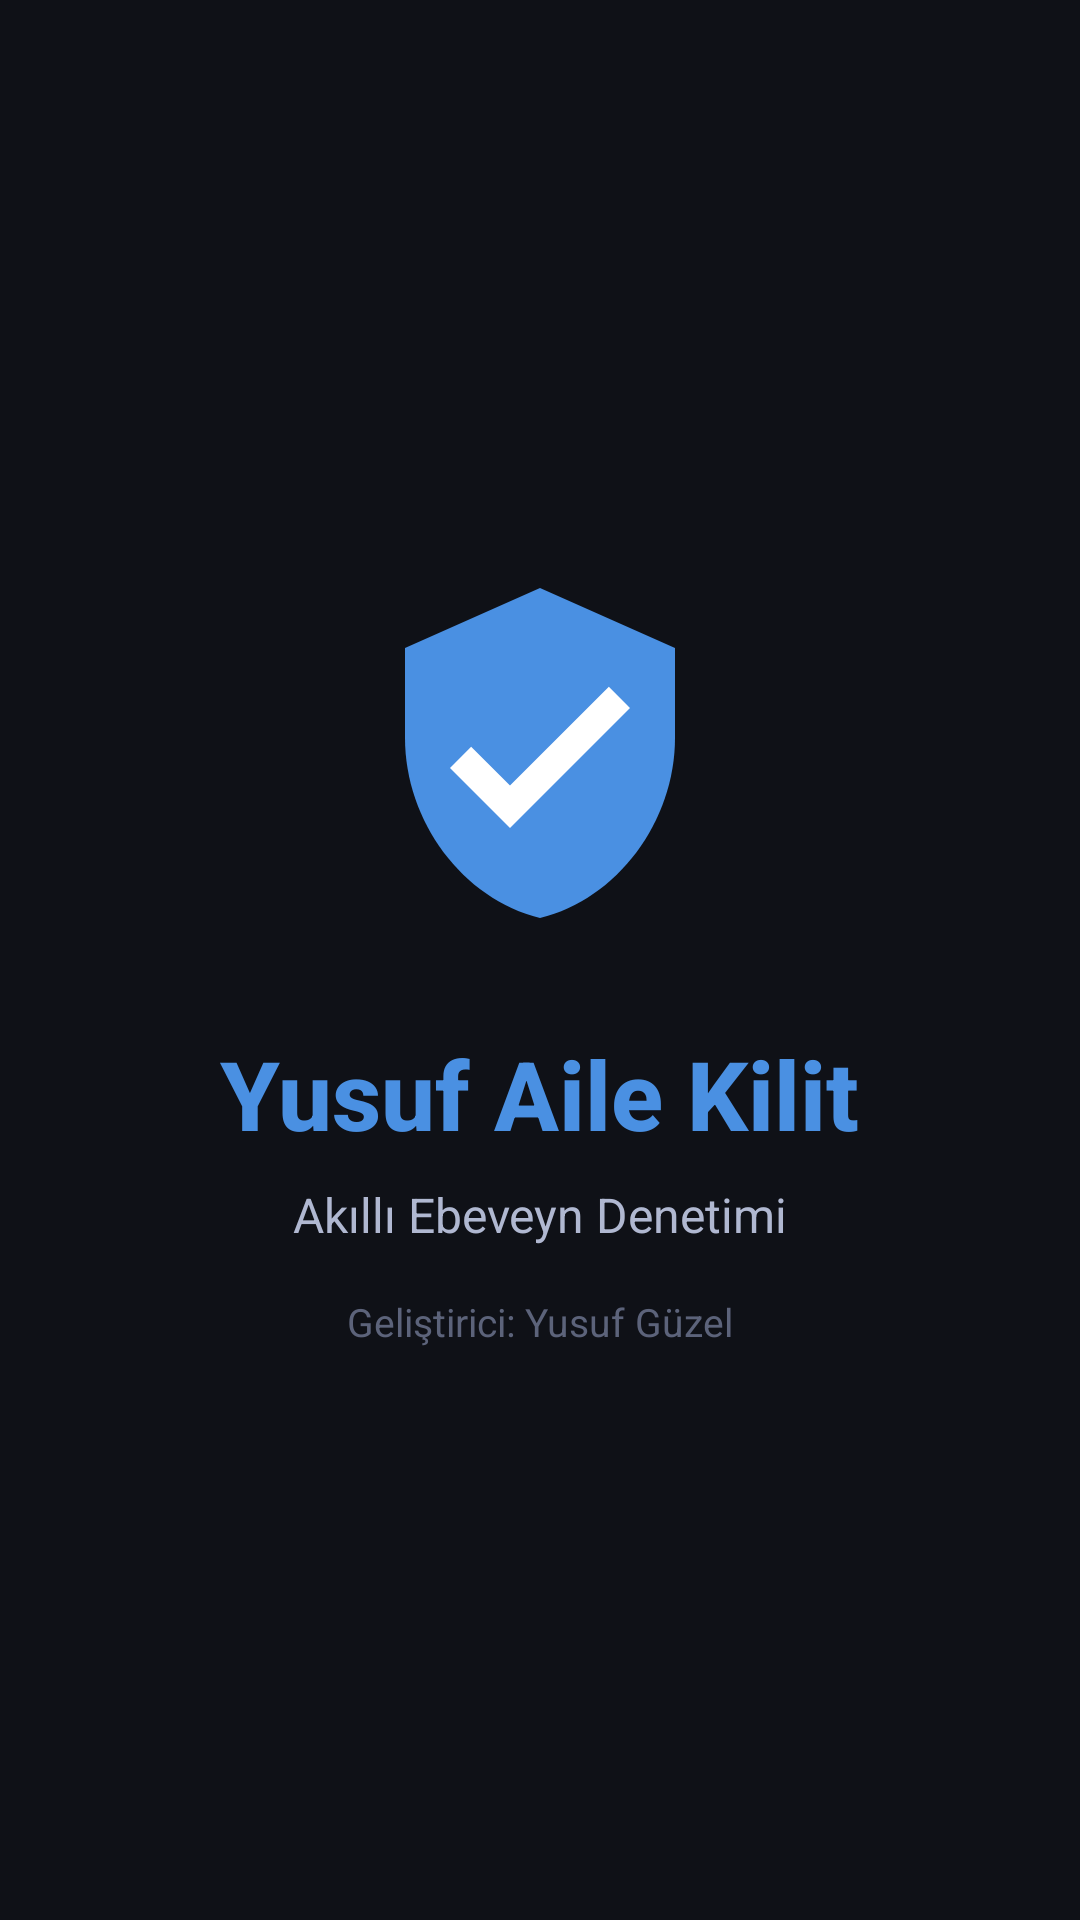

Icon click points for this 1080w x 1920h phone screenshot, format [x,y]:
shield: [540,753]
